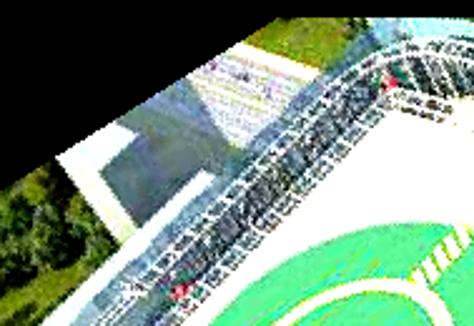Apron: (255, 270, 460, 326)
